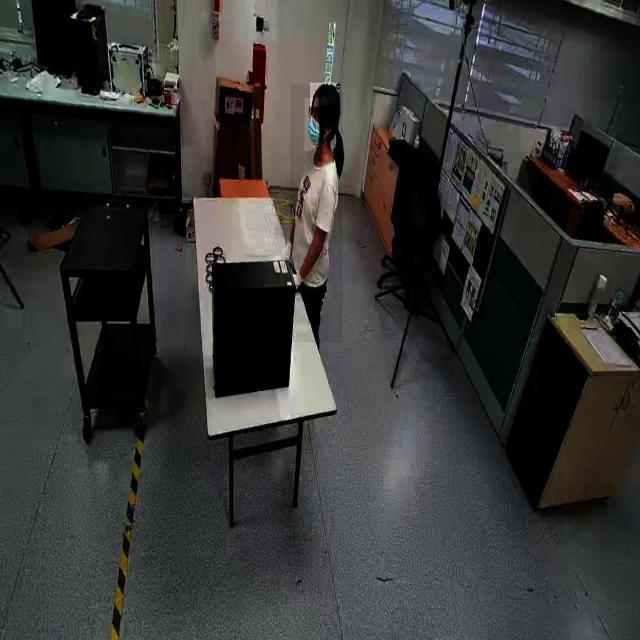face_mask: (304, 98, 328, 151)
head_nohelmet: (310, 82, 340, 108)
person: (291, 85, 343, 343)
